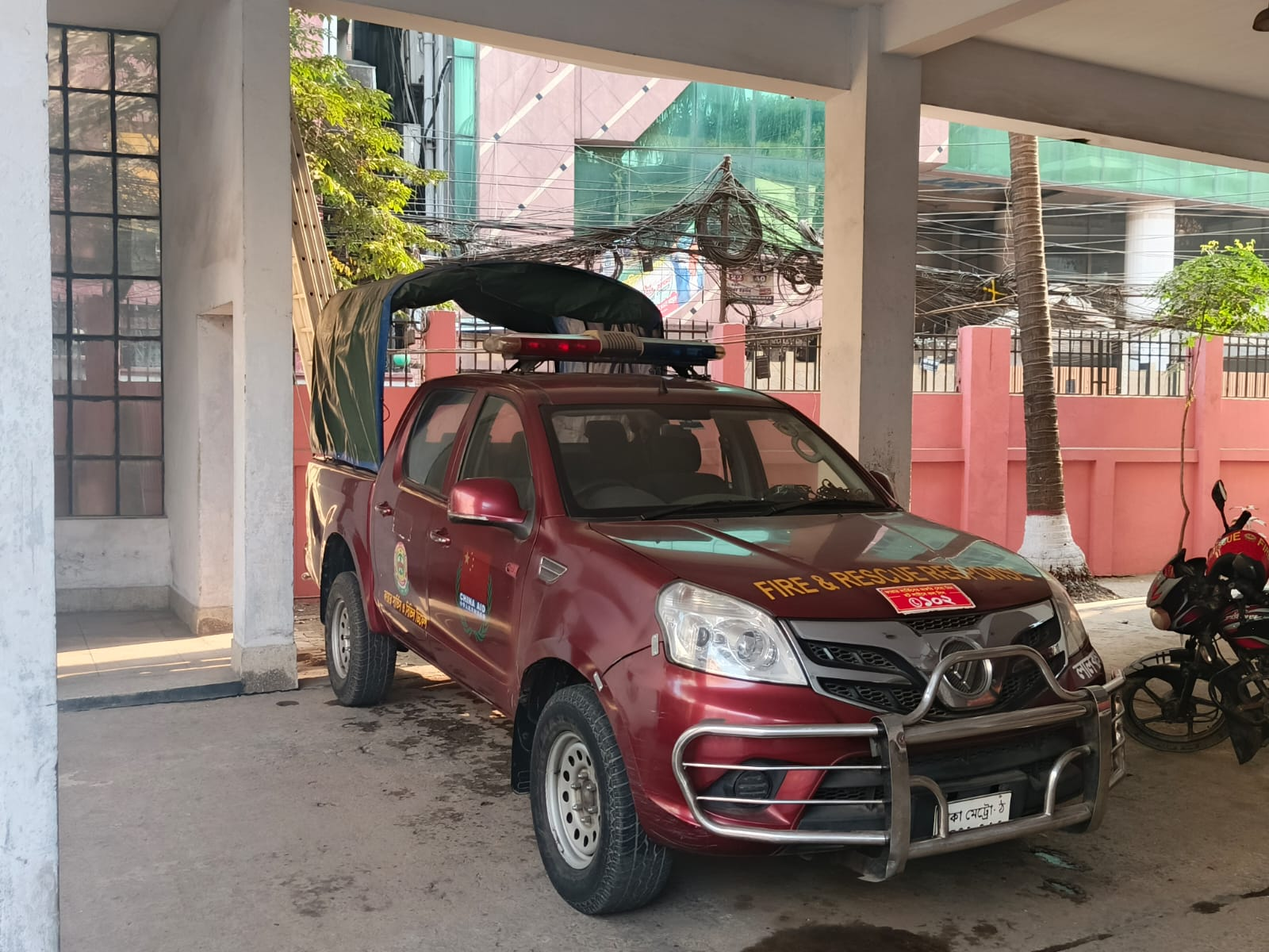Fire truck: (301, 247, 1126, 915)
